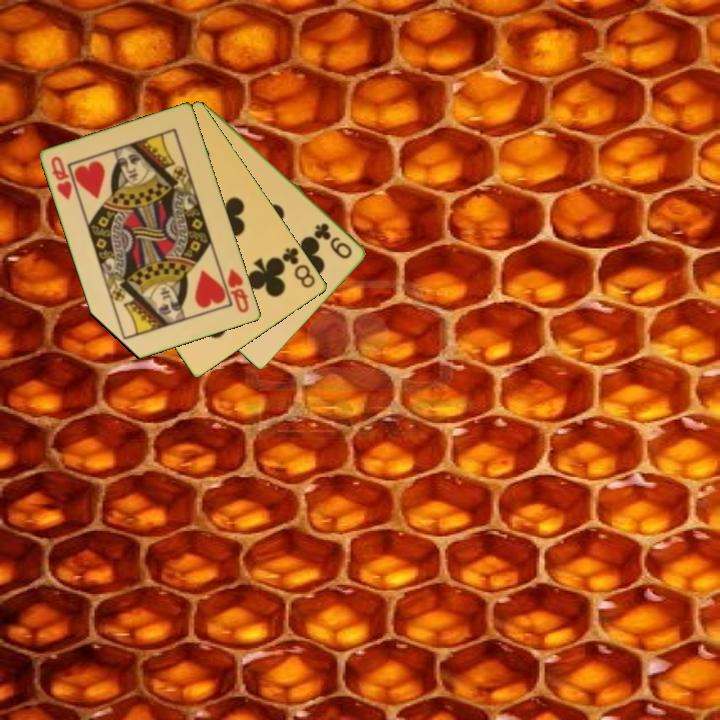8c: (279, 244, 319, 291)
9c: (311, 219, 355, 262)
Qh: (224, 265, 252, 316), (48, 153, 75, 203)
